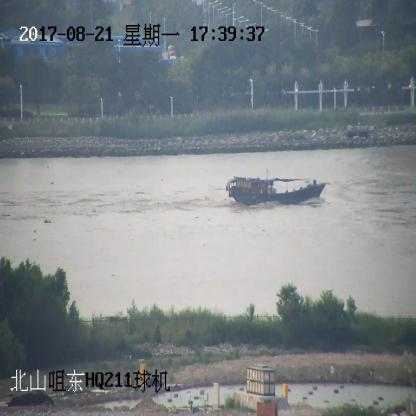Fishing Boat: (226, 174, 330, 204)
